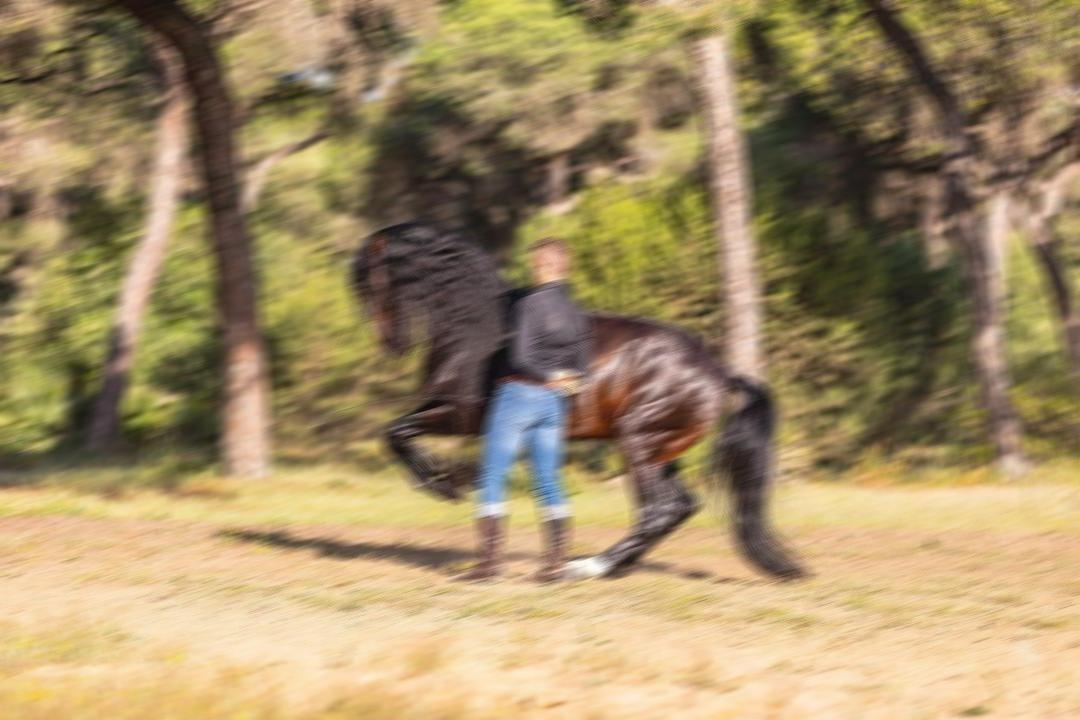horse: (335, 219, 821, 584)
